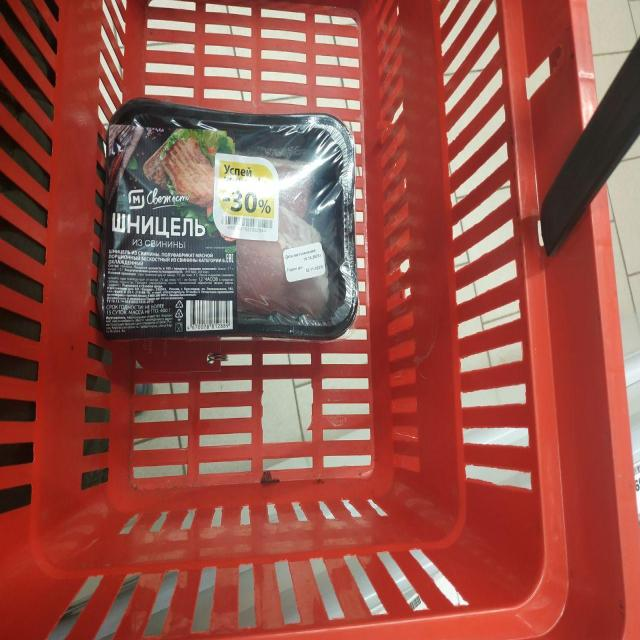Meat: (98, 98, 358, 340)
